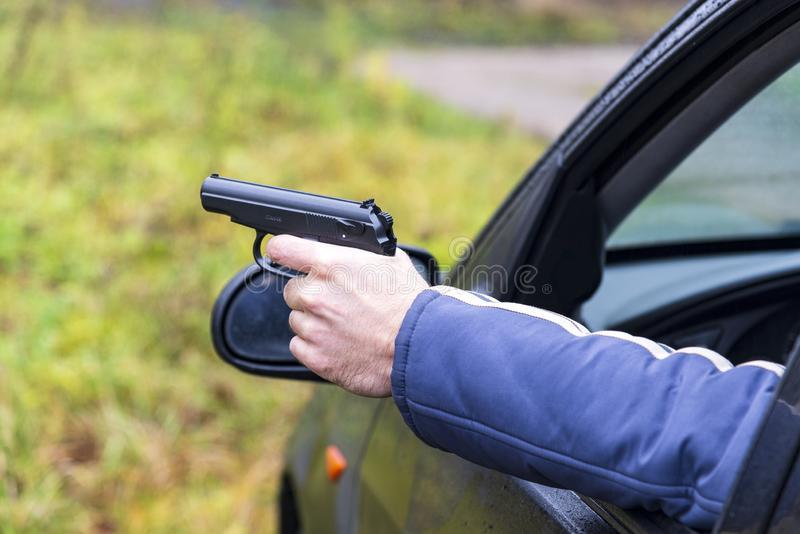weapon: (198, 170, 399, 281)
